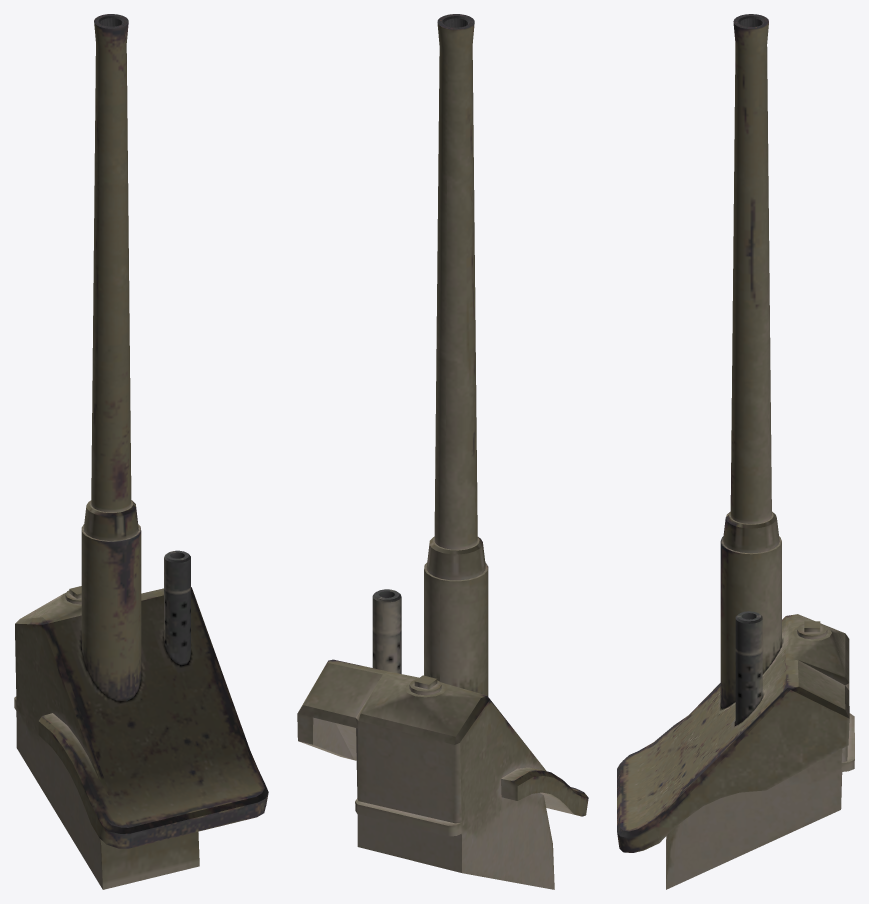
Rendered from Gun_01.glb.
The picture shows the model from 3 angles, left to right: view 1: azimuth 30°, elevation 25°; view 2: azimuth 150°, elevation 25°; view 3: azimuth 270°, elevation 25°; orthographic projection. The views are drawn at different scales.
Visible parts, largest first — view 1: set_0_group_0; view 2: set_0_group_0; view 3: set_0_group_0.
Part boxes in pixels (left/top/right/bottom): set_0_group_0: left=14, top=14, right=268, bottom=889; set_0_group_0: left=297, top=14, right=588, bottom=889; set_0_group_0: left=617, top=14, right=854, bottom=889.
Size of the model in its own units: 0.3146 by 1.51 by 0.3843.
Materials: 1 (1 with a texture image).
